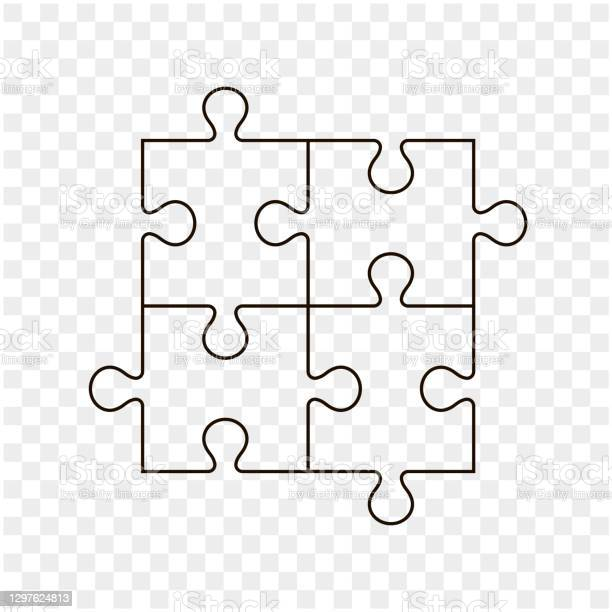puzzle piece: (258, 90, 527, 336), (114, 77, 322, 360)
